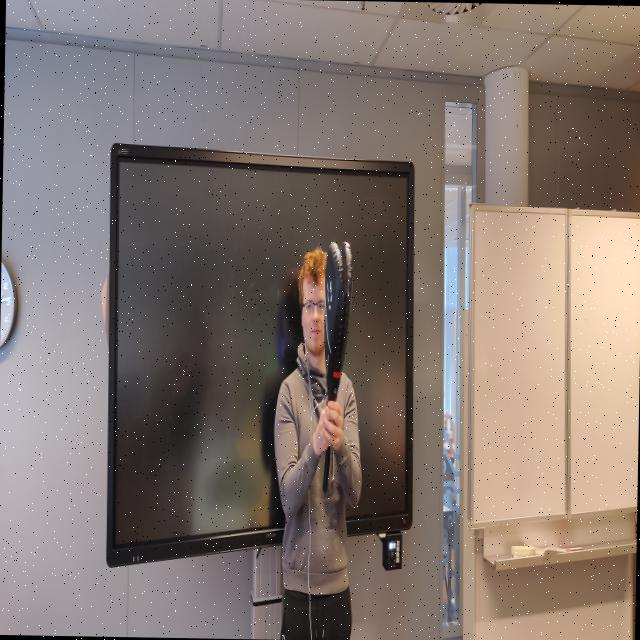paddle: (323, 238, 353, 402)
